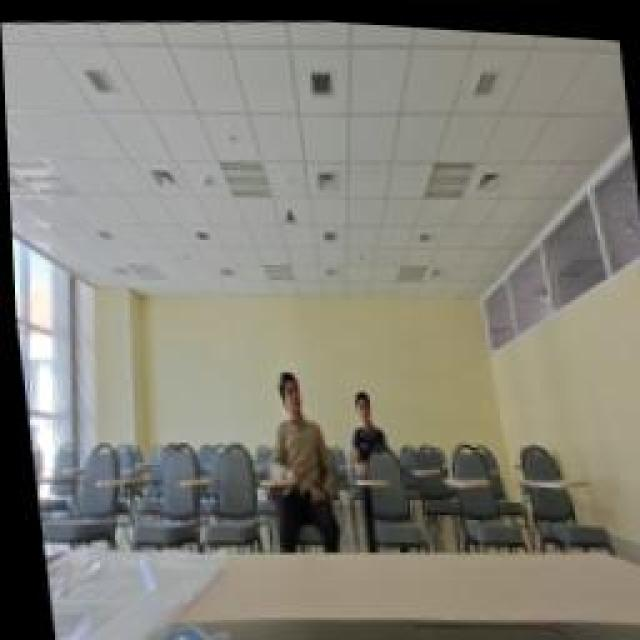study: (252, 360, 338, 555)
